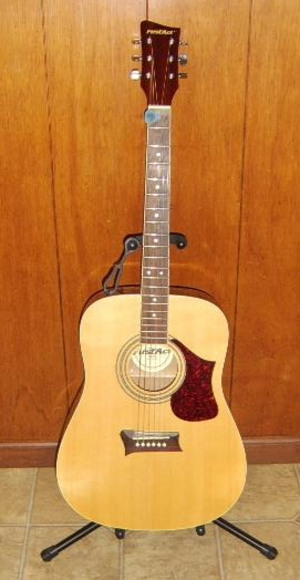guitar: (54, 20, 250, 533)
